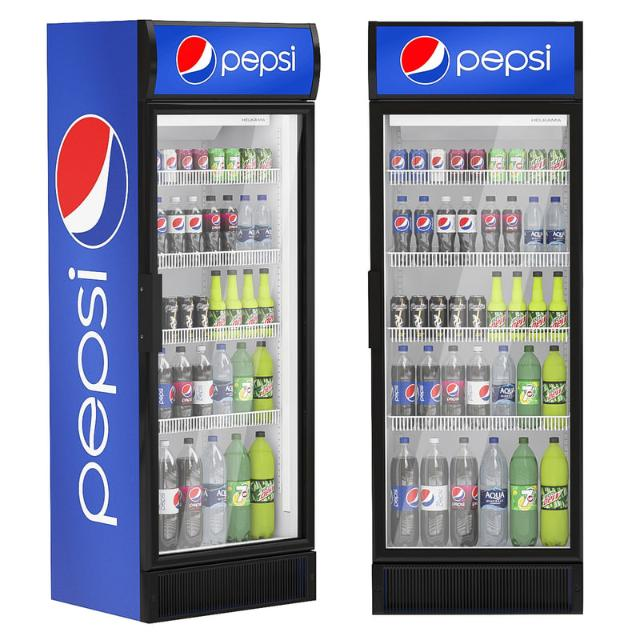Cooling-Display: (46, 19, 322, 617), (366, 19, 582, 621)
